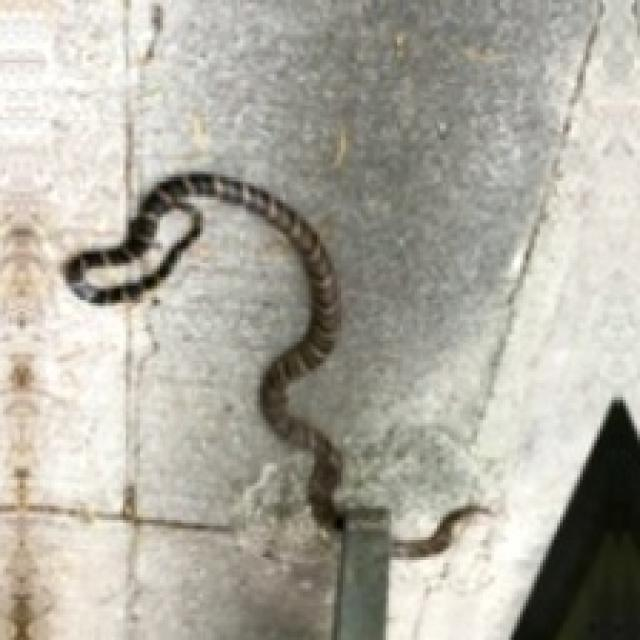king cobra: (63, 171, 343, 529), (63, 171, 343, 526)
